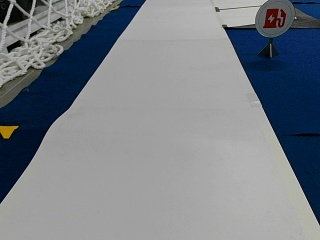battery: (254, 0, 295, 37)
